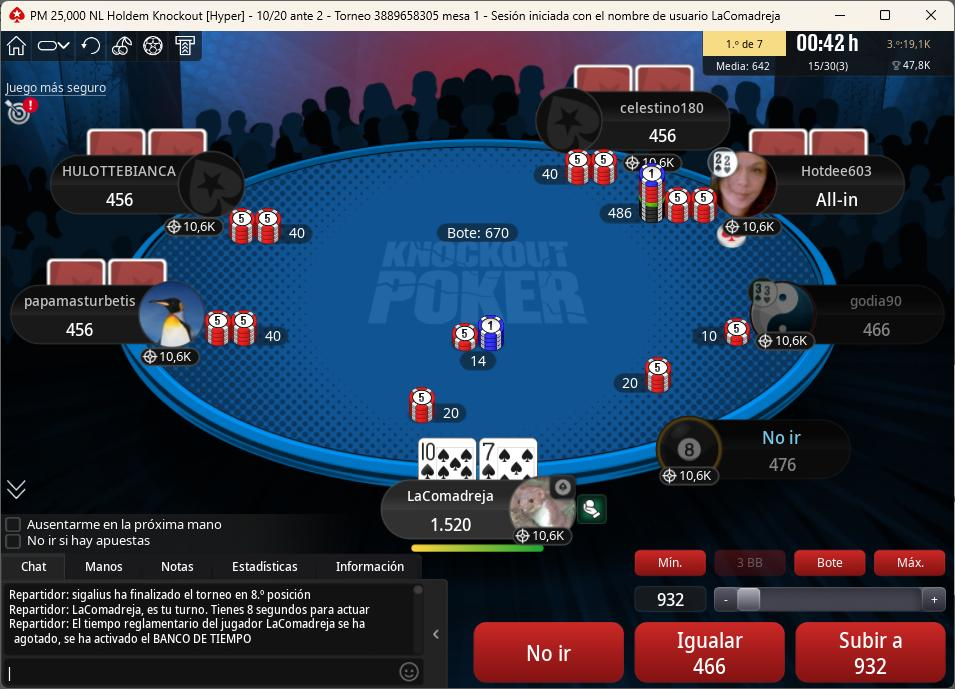ButtonCall: (627, 617, 785, 687)
ButtonFold: (469, 621, 635, 686)
ButtonMaxRaise: (871, 547, 949, 579)
ButtonMinRaise: (634, 549, 714, 580)
ButtonRaise: (790, 616, 952, 686)
HiddenCards: (84, 132, 216, 160), (43, 259, 176, 286), (744, 132, 876, 159), (573, 68, 703, 94)
Player: (746, 283, 950, 349), (710, 152, 915, 217), (10, 284, 212, 349), (45, 151, 246, 215), (651, 422, 853, 485), (540, 88, 732, 152)
PlayerBet: (197, 308, 295, 353), (223, 208, 325, 250), (607, 356, 687, 400), (688, 318, 760, 351)
PlayerChips: (810, 190, 871, 211), (765, 456, 809, 476), (60, 324, 105, 343), (99, 192, 142, 211), (861, 324, 901, 343)
Pot: (434, 225, 522, 245)
PrincipalBet: (405, 388, 473, 427)
PrincipalCards: (414, 438, 545, 484)
PrincipalCards1: (415, 436, 478, 482)
PrincipalCards2: (480, 436, 542, 482)
PrincipalPlayer: (385, 478, 594, 552)
PrincipalPlayerChips: (420, 518, 481, 537)
SmallBigBlind: (245, 4, 348, 26)
TablePot: (443, 319, 548, 379)
